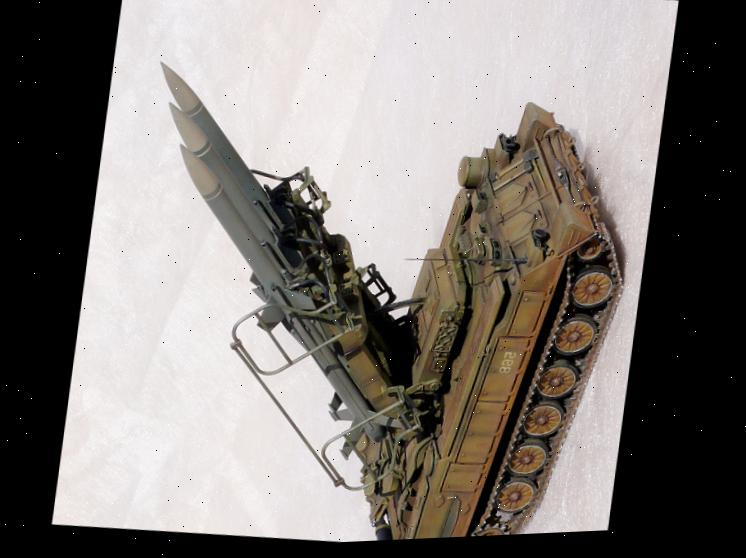armored_car: (79, 27, 658, 554)
